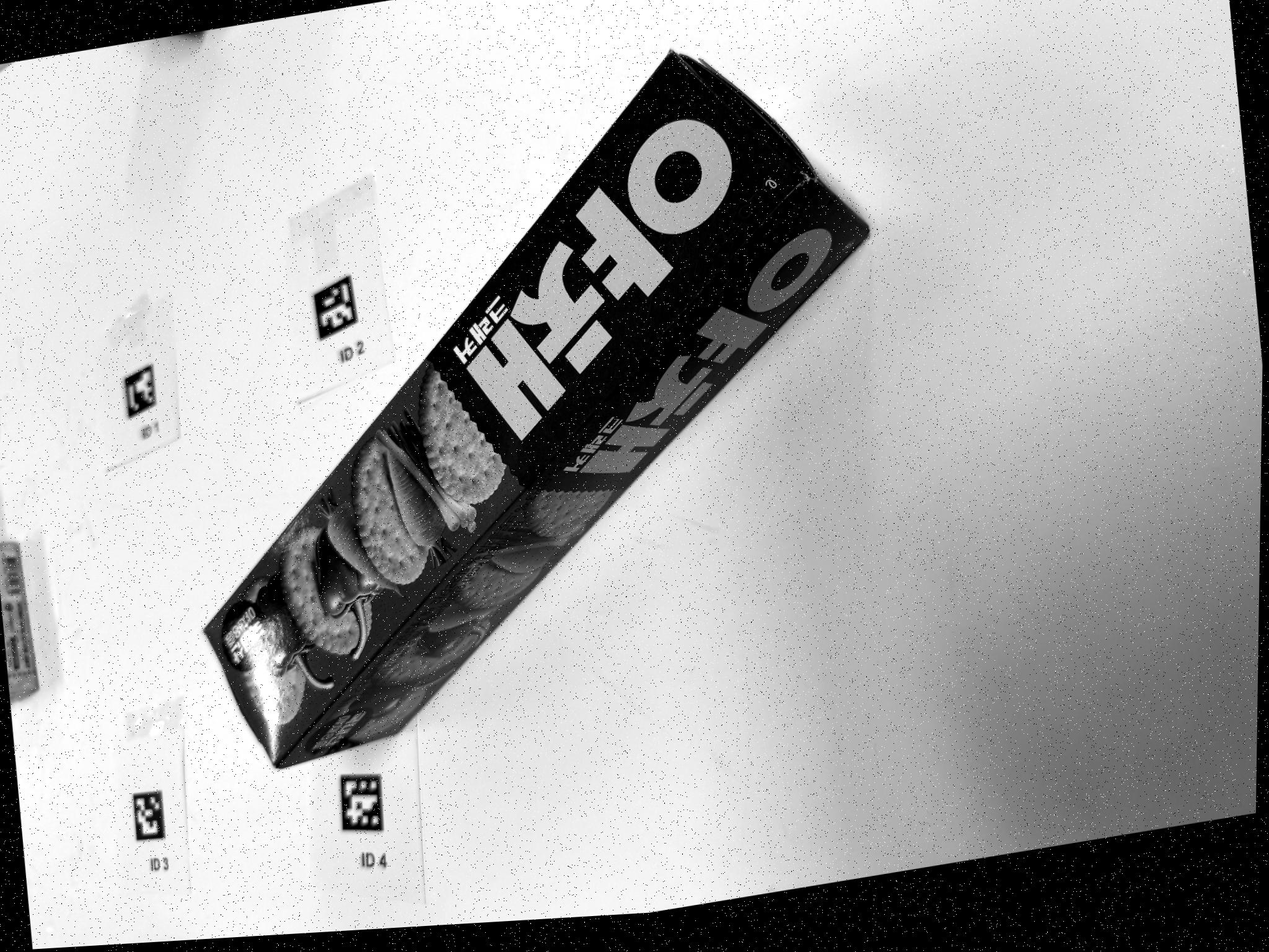cracker_vege: (205, 54, 868, 767)
